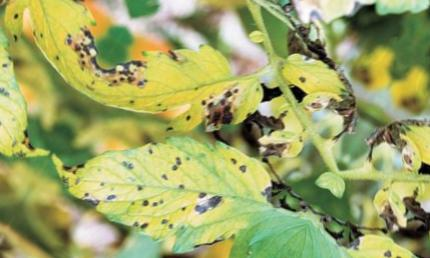Tomato leaf bacterial spot: (50, 77, 285, 258), (89, 0, 276, 168)
